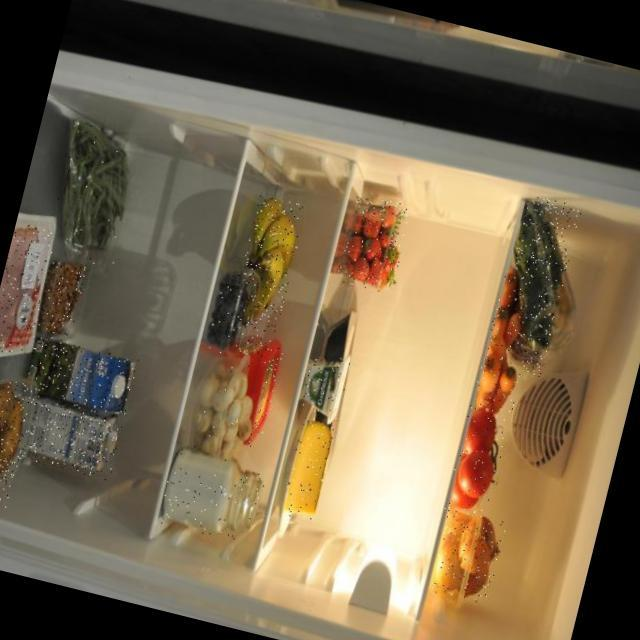Carne cerdo: (0, 218, 53, 356)
Gambas/Langostinos: (31, 257, 87, 337)
Mantequilla: (205, 328, 284, 451)
Queso: (279, 417, 337, 522)
Zanahoria: (469, 268, 544, 420)
